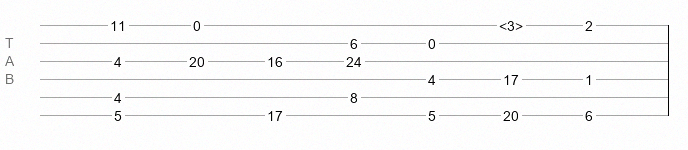0: (193, 18, 201, 28), (428, 36, 436, 46)
1: (585, 72, 593, 82)
11: (110, 18, 126, 28)
16: (267, 54, 283, 64)
17: (267, 108, 283, 118), (503, 72, 519, 82)
2: (585, 18, 593, 28)
20: (189, 54, 205, 64), (503, 108, 519, 118)
24: (346, 54, 362, 64)
4: (114, 90, 122, 100), (114, 54, 122, 64), (428, 72, 436, 82)
5: (114, 108, 122, 118), (428, 108, 436, 118)
6: (350, 36, 358, 46), (585, 108, 593, 118)
8: (350, 90, 358, 100)
harmonic: (499, 18, 523, 28)
